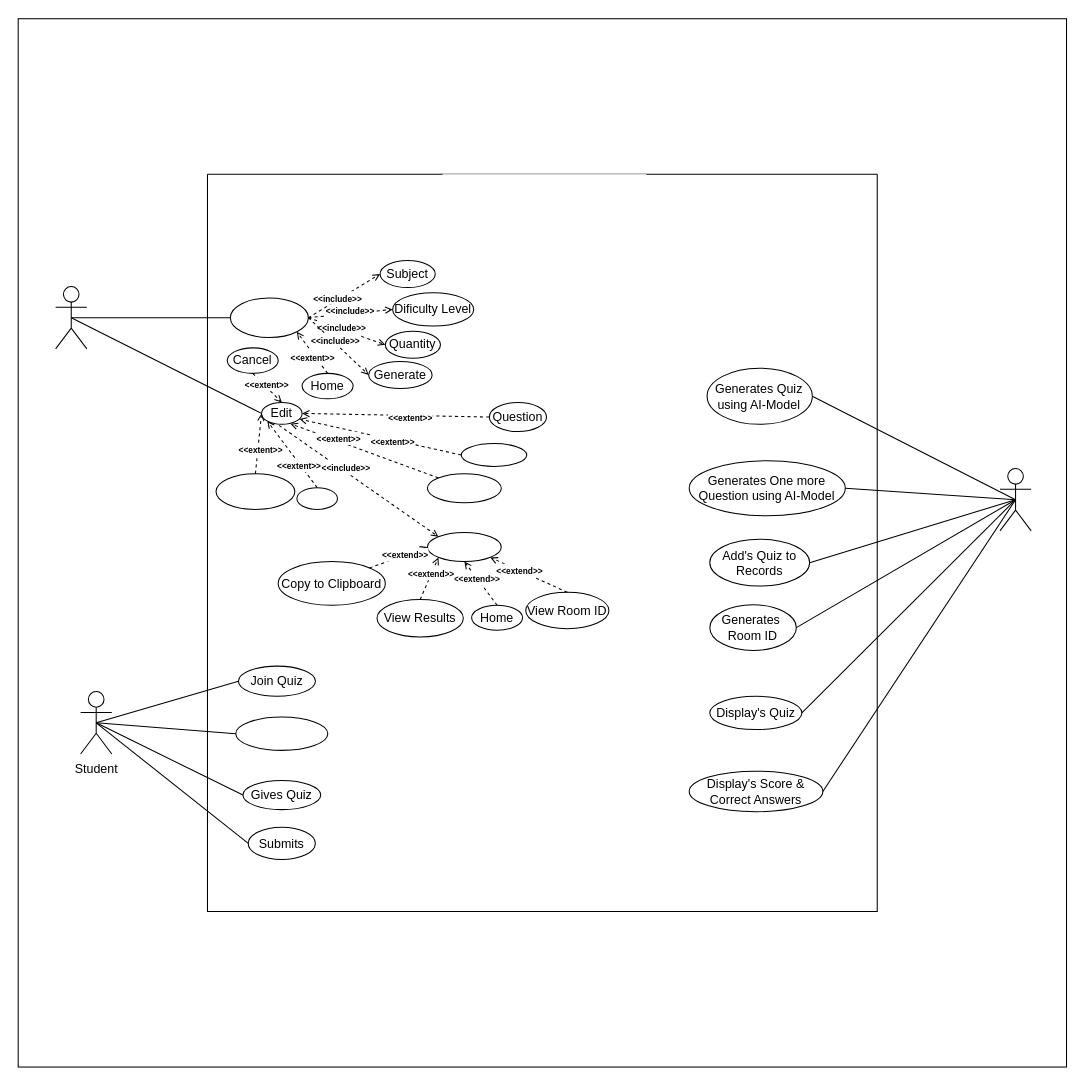
This 1085x1085 diagram has some shape labels left out. The centre of each missing label's shape, as x and y in pixels:
"Add More" goes at point (463, 488).
"Admin" goes at point (1015, 499).
"Delete Question" goes at point (255, 491).
"Enter Room ID" goes at point (281, 733).
"Options" goes at point (493, 454).
"Selectes Categaries" goes at point (268, 317).
"Submit" goes at point (463, 546).
"System" goes at point (544, 211).
"Teacher" goes at point (71, 317).
"Title" goes at point (316, 498).
